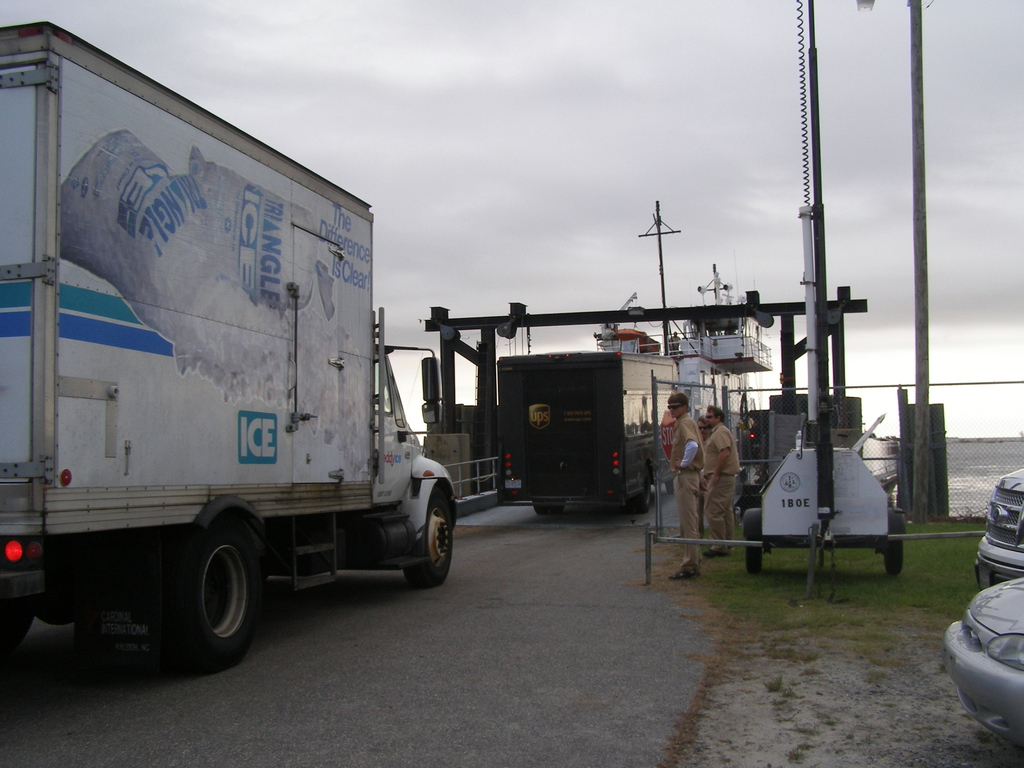Car: (945, 579, 1023, 752), (974, 462, 1023, 584)
